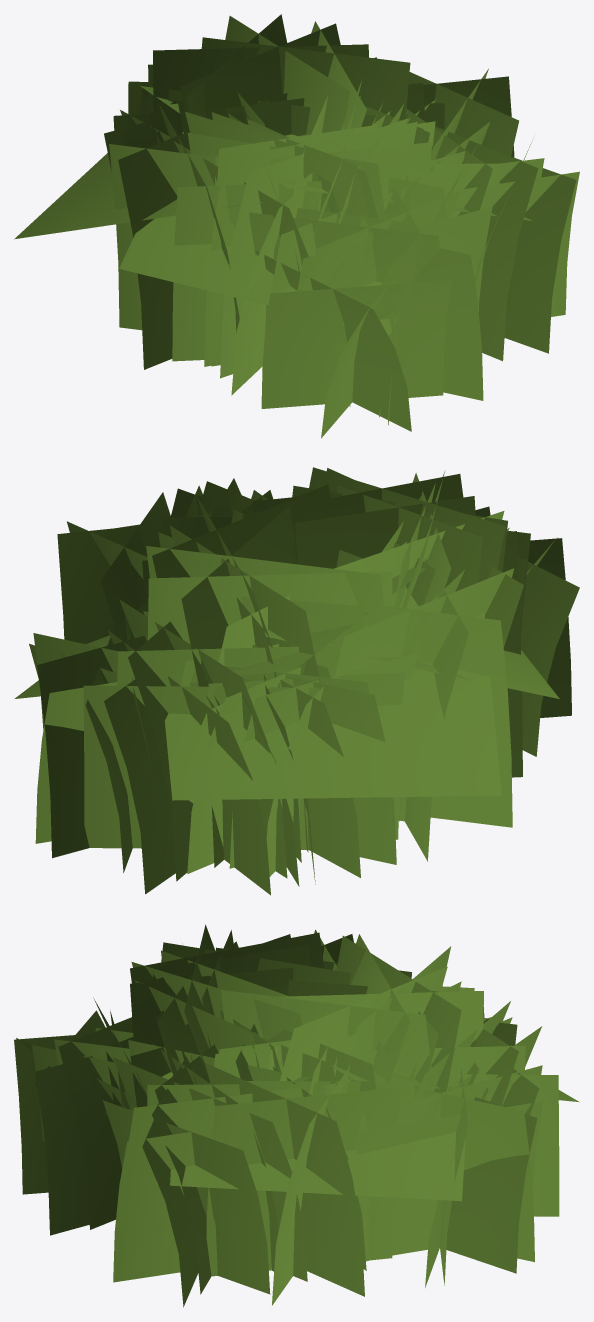
Rendered from wildflower_clump_b.glb.
The picture shows the model from 3 angles, top to bottom: view 1: azimuth 30°, elevation 25°; view 2: azimuth 150°, elevation 25°; view 3: azimuth 270°, elevation 25°; orthographic projection. The views are drawn at different scales.
Visible parts, largest first — view 1: wildflower_clump_b_lod0; view 2: wildflower_clump_b_lod0; view 3: wildflower_clump_b_lod0.
Boxes of the visible parts, x1,y1,x2,y2 form: wildflower_clump_b_lod0: [14, 14, 579, 438]; wildflower_clump_b_lod0: [14, 467, 579, 895]; wildflower_clump_b_lod0: [14, 924, 579, 1307].
Size of what is drawn, in the model's own units: 0.9689 by 0.4946 by 1.1.
